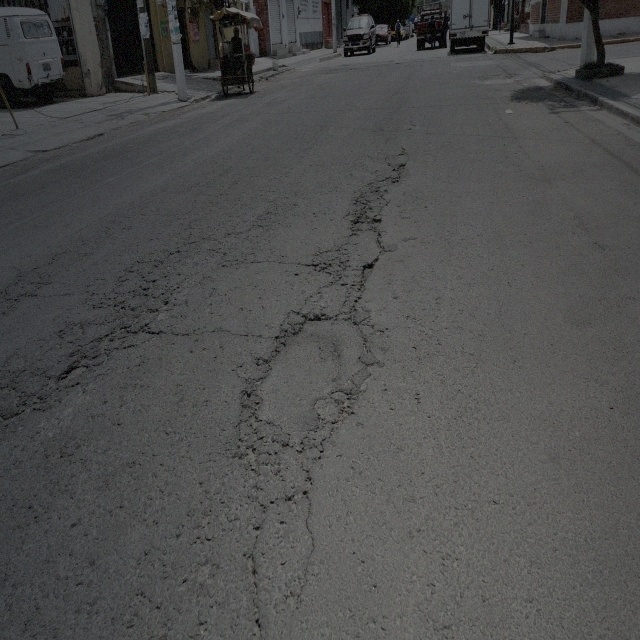pothole: (56, 358, 89, 388), (358, 256, 377, 294), (335, 396, 352, 424), (397, 162, 406, 178)
